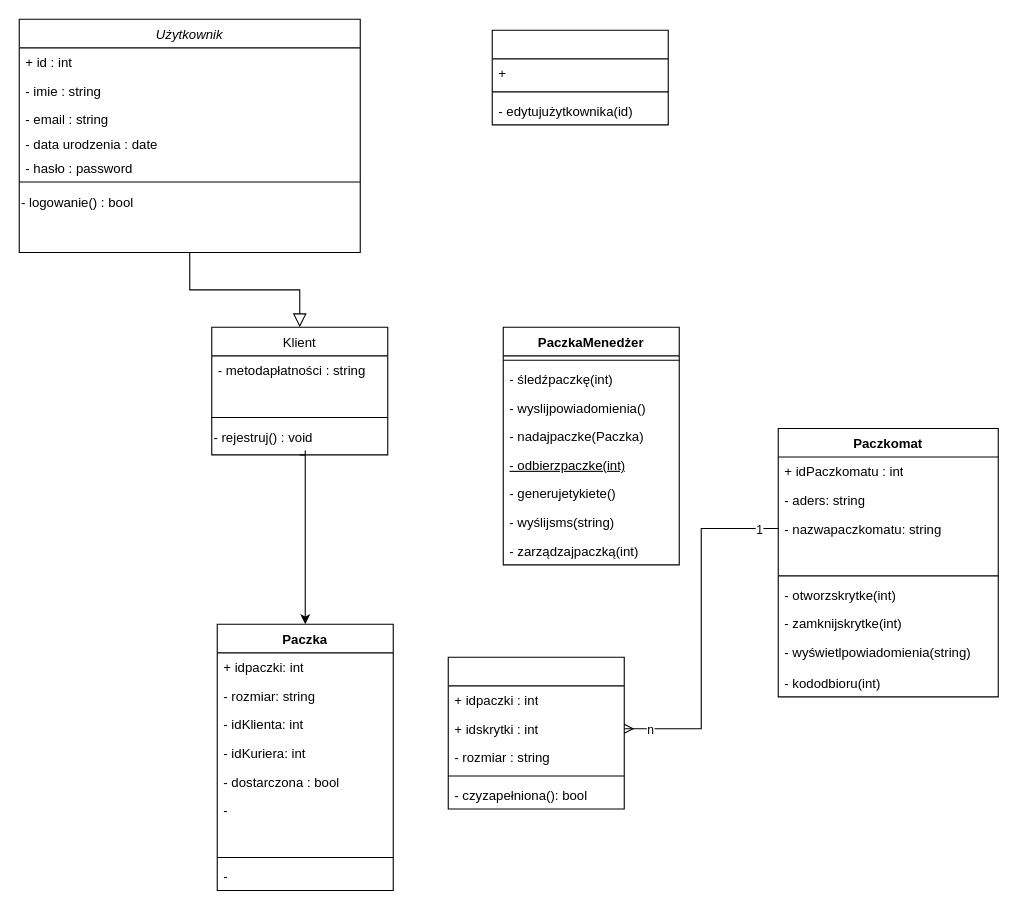
The diagram is 1018 pixels wide and 913 high, and some of its shapes have lost their labels. Each missing label, with the box of its shape:
AdminPanel: (491, 29, 668, 125)
skrytka: (447, 656, 624, 809)
